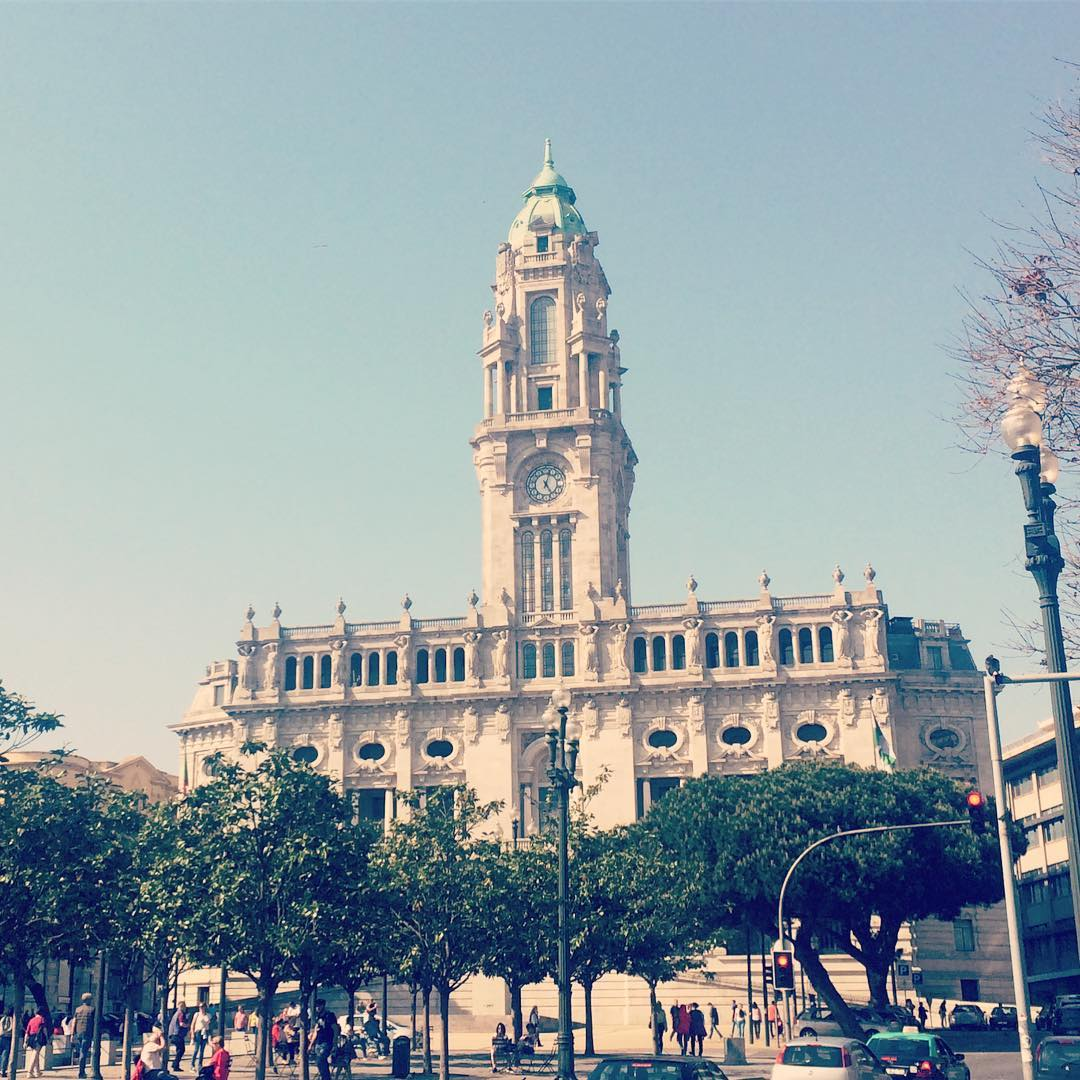camara: (164, 132, 1017, 1009)
